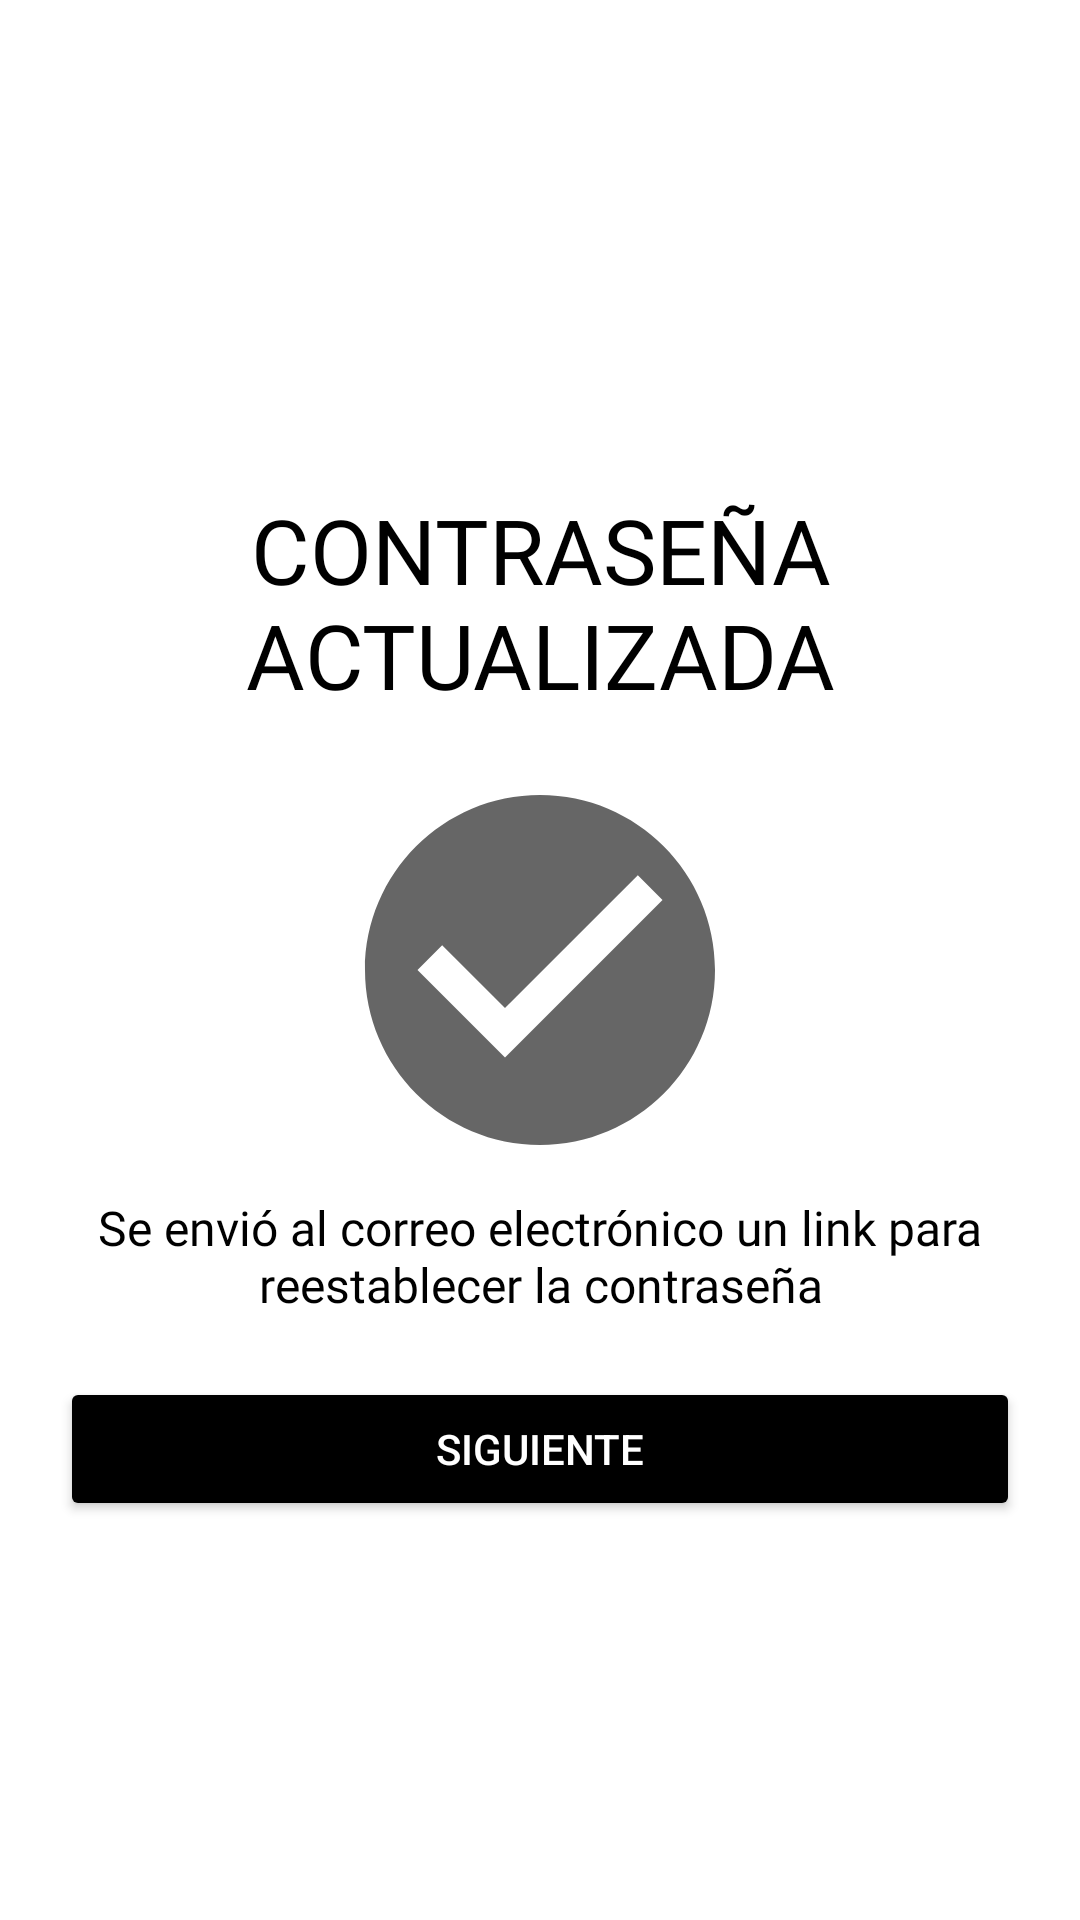

Icons on this 1080w x 1920h Android screen, each with the point to tap as [x,y]:
check circle: [540,970]
